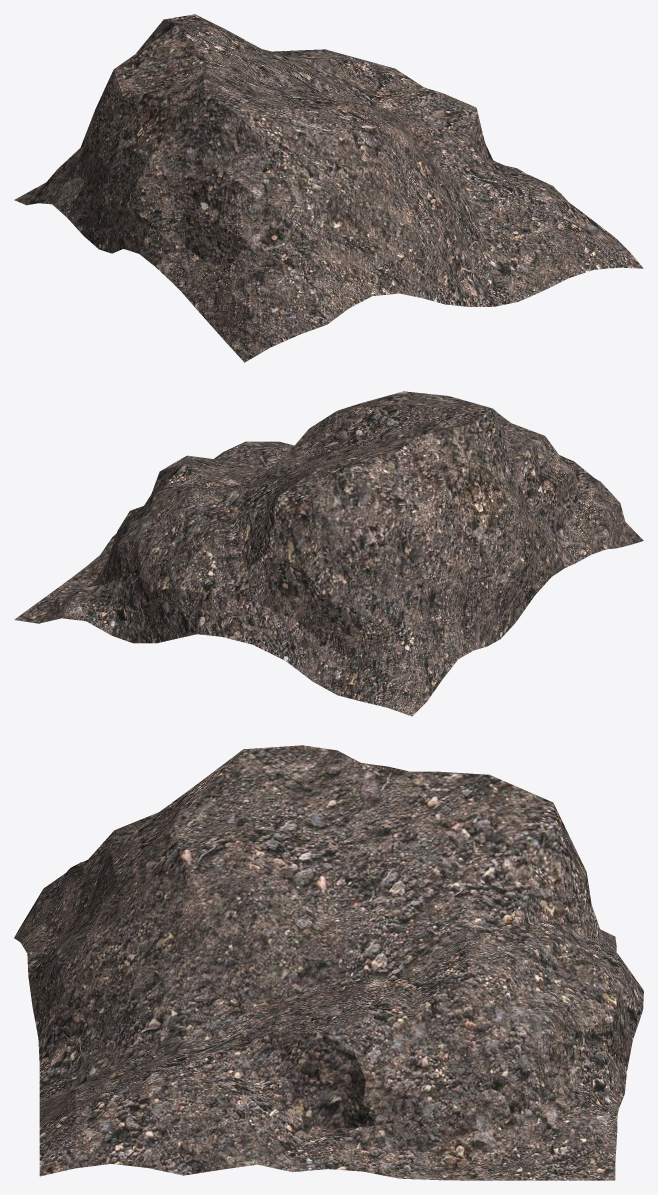
Rendered from terrain.obj.
3 renders of one model, top to bottom at view 1: azimuth 30°, elevation 25°; view 2: azimuth 150°, elevation 25°; view 3: azimuth 270°, elevation 25°, orthographic. The views are drawn at different scales.
Visible parts, largest first — view 1: Mountain_Plane; view 2: Mountain_Plane; view 3: Mountain_Plane.
Part boxes in pixels (x1=…): Mountain_Plane: x1=14, y1=14, x2=643, y2=362; Mountain_Plane: x1=14, y1=391, x2=643, y2=716; Mountain_Plane: x1=14, y1=745, x2=643, y2=1180.
Size of the model in its own units: 39.05 by 17.07 by 41.58.
